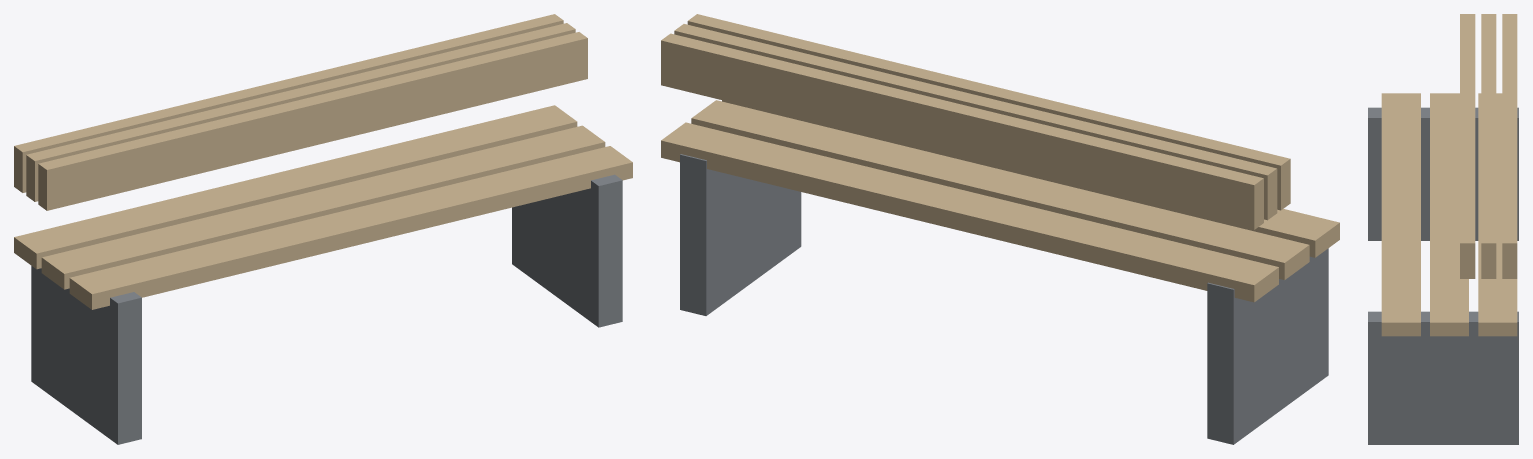
The model's file is Bench.glb.
3 views of the same model, side by side, from view 1: azimuth 30°, elevation 25°; view 2: azimuth 150°, elevation 25°; view 3: azimuth 270°, elevation 25° (orthographic). The views are drawn at different scales.
Parts seen in each view (by area): view 1: model; view 2: model; view 3: model.
Boxes of the visible parts, left/top/right/bottom form: model: left=14, top=14, right=632, bottom=444; model: left=661, top=14, right=1339, bottom=444; model: left=1368, top=14, right=1518, bottom=444.
Bounding box in the file's own units: 1.8 × 0.765 × 0.5.
